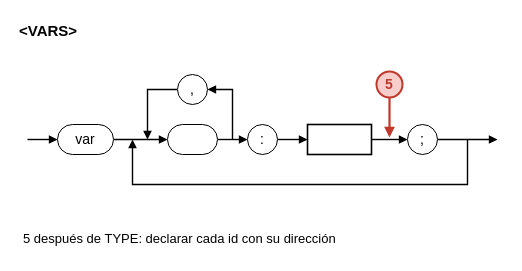
Some shapes in this 522 by 271 pixel diagram are drawn without their labels. Each missing label, with the box of its shape:
id: (166, 124, 218, 154)
TYPE: (306, 123, 372, 155)
